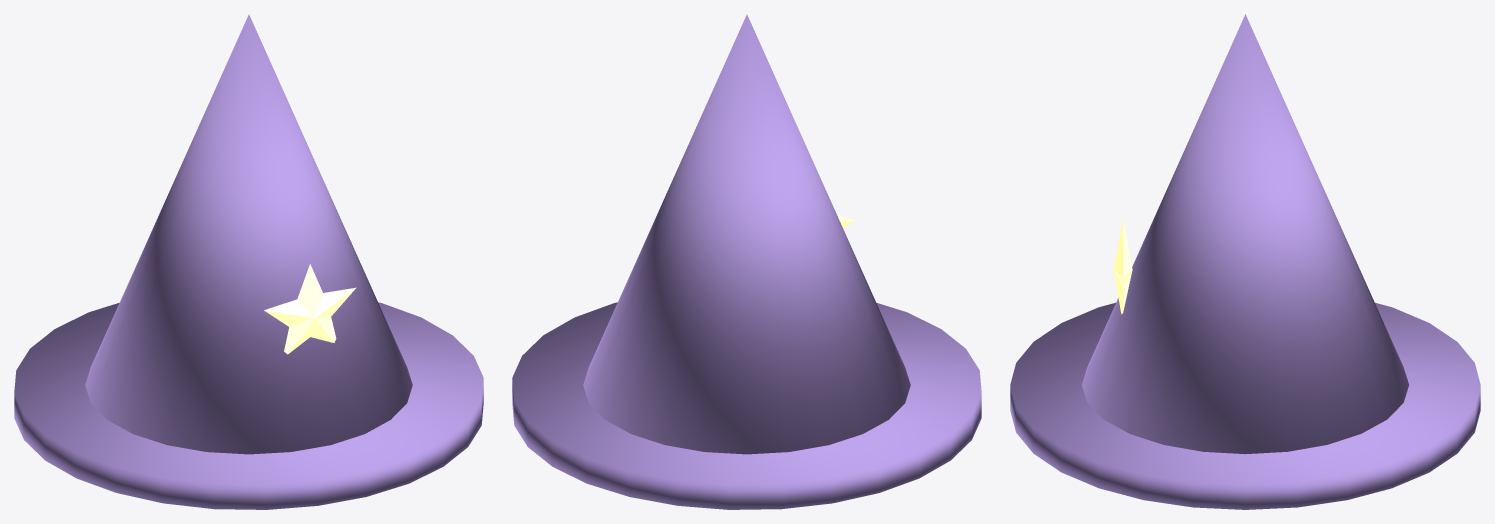
File: cat_hat.glb
The picture shows the model from 3 angles, left to right: view 1: azimuth 30°, elevation 25°; view 2: azimuth 150°, elevation 25°; view 3: azimuth 270°, elevation 25°; orthographic projection.
Visible parts, largest first — view 1: cat_hat; view 2: cat_hat; view 3: cat_hat.
Boxes of the visible parts, box(x1,y1,x2,y2) form: cat_hat: box(14, 14, 483, 509); cat_hat: box(512, 14, 981, 509); cat_hat: box(1010, 14, 1480, 509).
Size of the model in its own units: 0.1 by 0.093 by 0.1.
